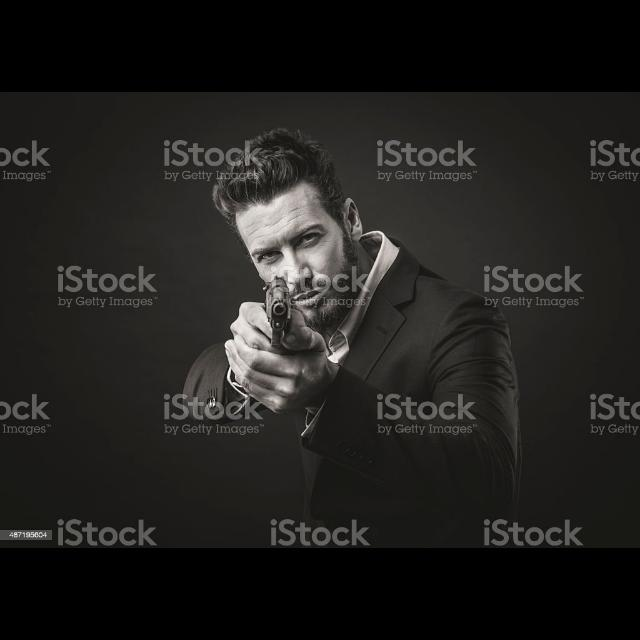handgun: (260, 272, 296, 358)
